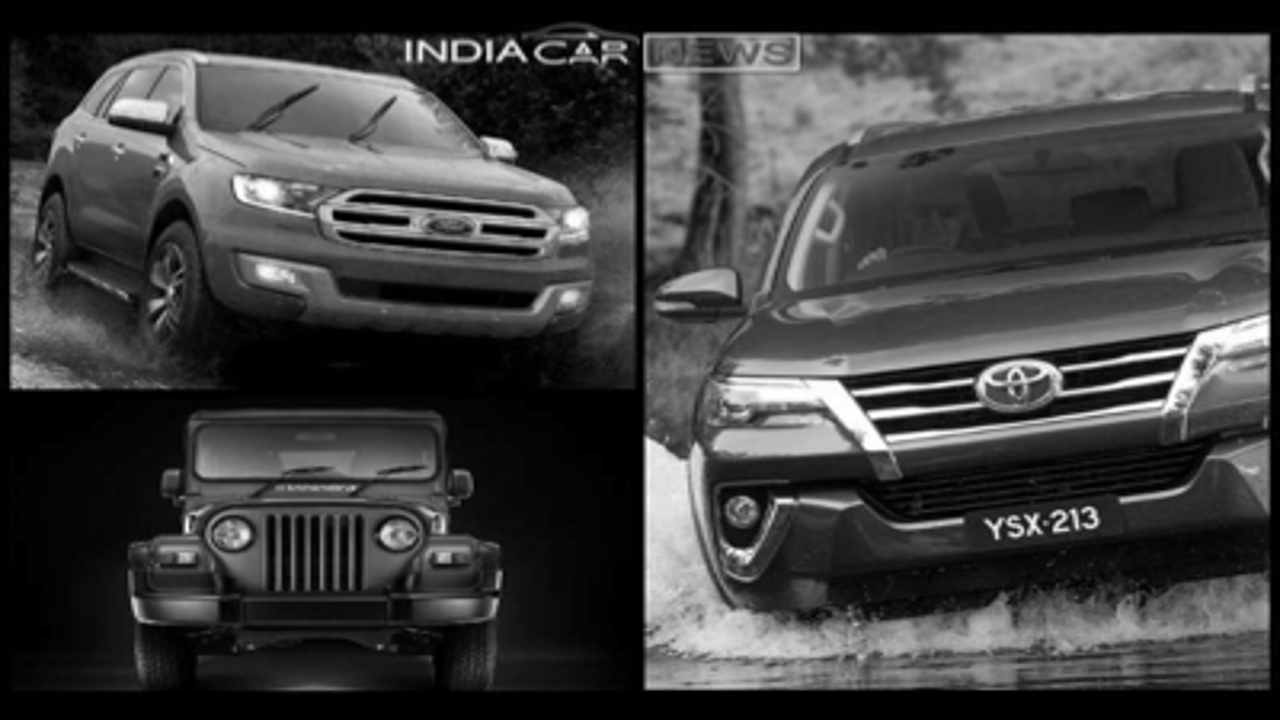license: (961, 493, 1128, 554)
